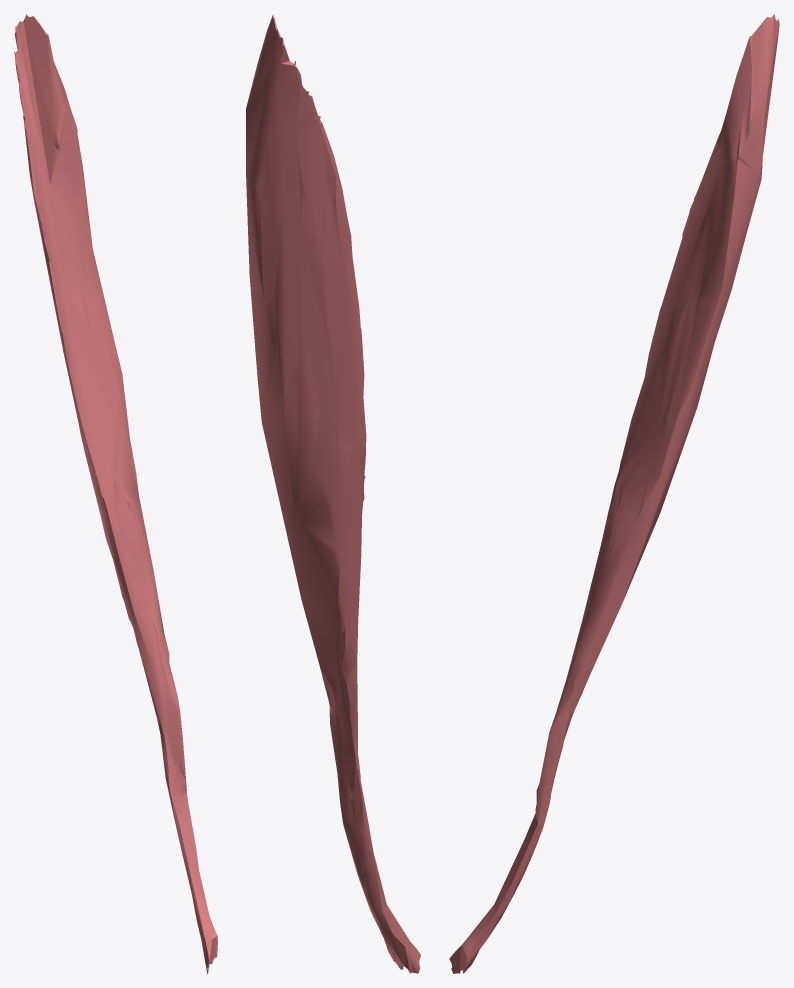
3 renders of one model, left to right at view 1: azimuth 30°, elevation 25°; view 2: azimuth 150°, elevation 25°; view 3: azimuth 270°, elevation 25°, orthographic. The views are drawn at different scales.
Visible parts, largest first — view 1: FJ1517M; view 2: FJ1517M; view 3: FJ1517M.
Part boxes in pixels (box(x1,y1,x2,y2)): FJ1517M: box(14, 14, 217, 973); FJ1517M: box(246, 14, 420, 973); FJ1517M: box(449, 14, 779, 973).
Bounding box in the file's own units: 0.0168 × 0.1818 × 0.0578.
